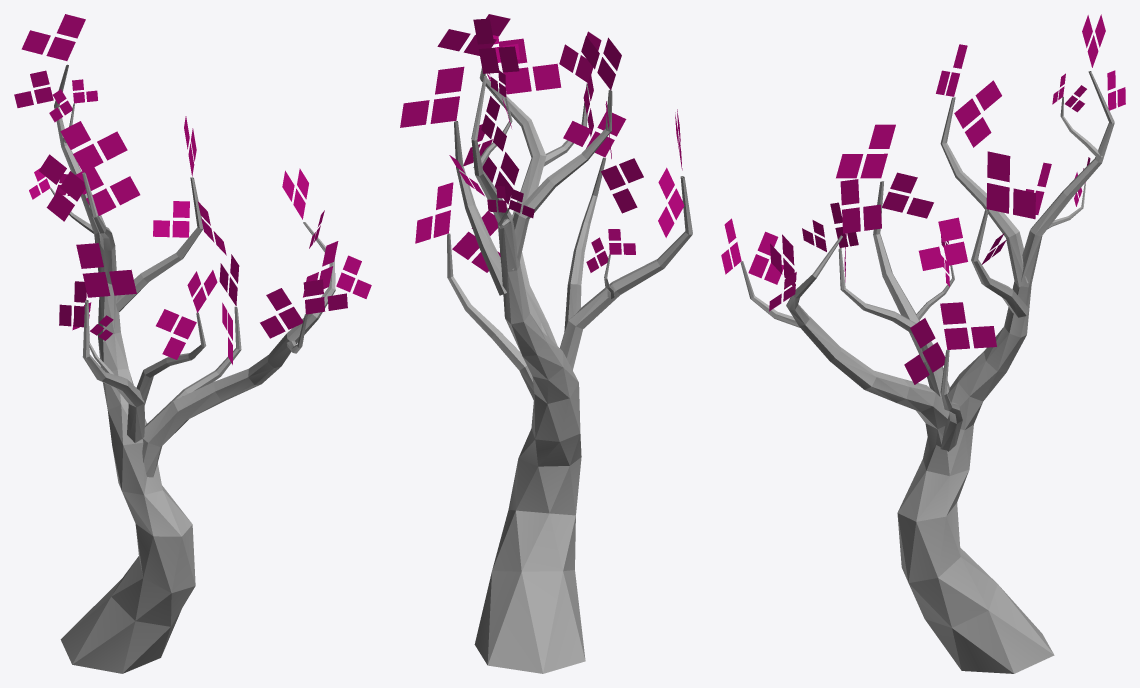
File: Deeptree_LOD-01.fbx
The picture shows the model from 3 angles, left to right: view 1: azimuth 30°, elevation 25°; view 2: azimuth 150°, elevation 25°; view 3: azimuth 270°, elevation 25°; orthographic projection. The views are drawn at different scales.
Parts seen in each view (by area): view 1: Deeptree_LOD_01; view 2: Deeptree_LOD_01; view 3: Deeptree_LOD_01.
Boxes of the visible parts, <box> form: Deeptree_LOD_01: <box>14,14,371,673</box>; Deeptree_LOD_01: <box>400,14,692,673</box>; Deeptree_LOD_01: <box>721,14,1125,673</box>.
Bounding box in the file's own units: 86.95 × 213 × 122.
